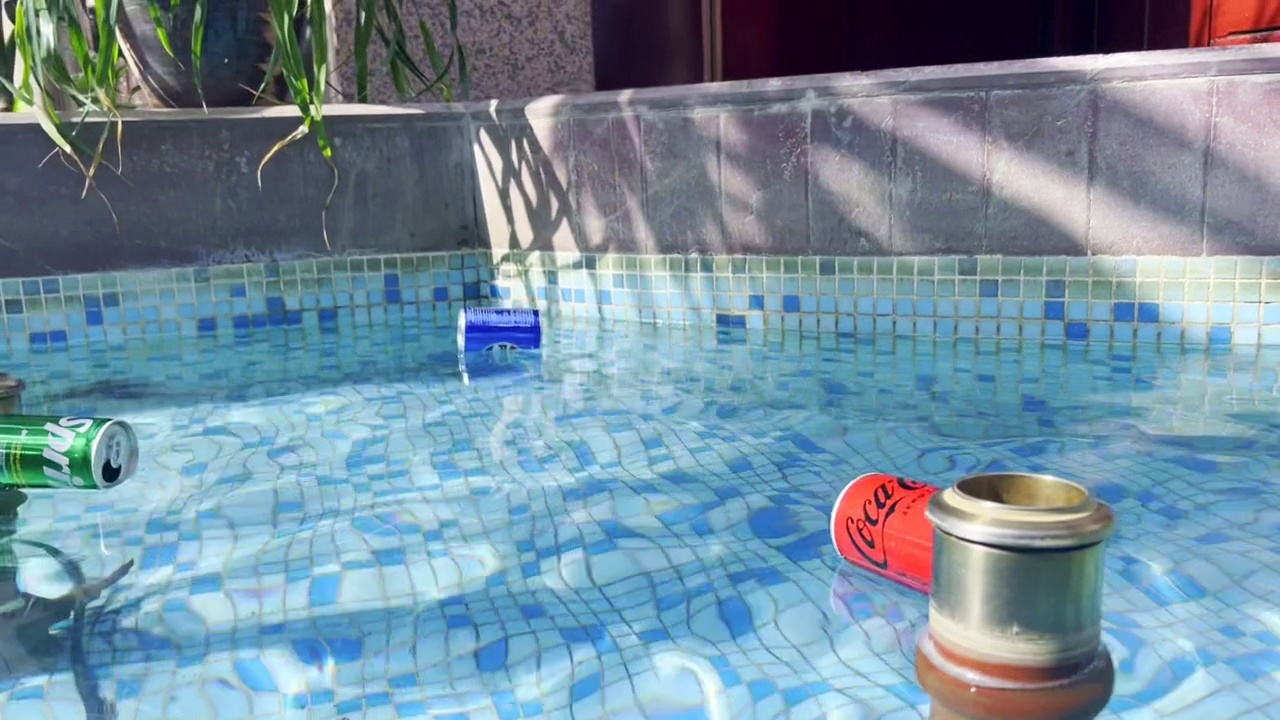debris: (811, 460, 1007, 596), (0, 402, 156, 504), (447, 303, 552, 360)
